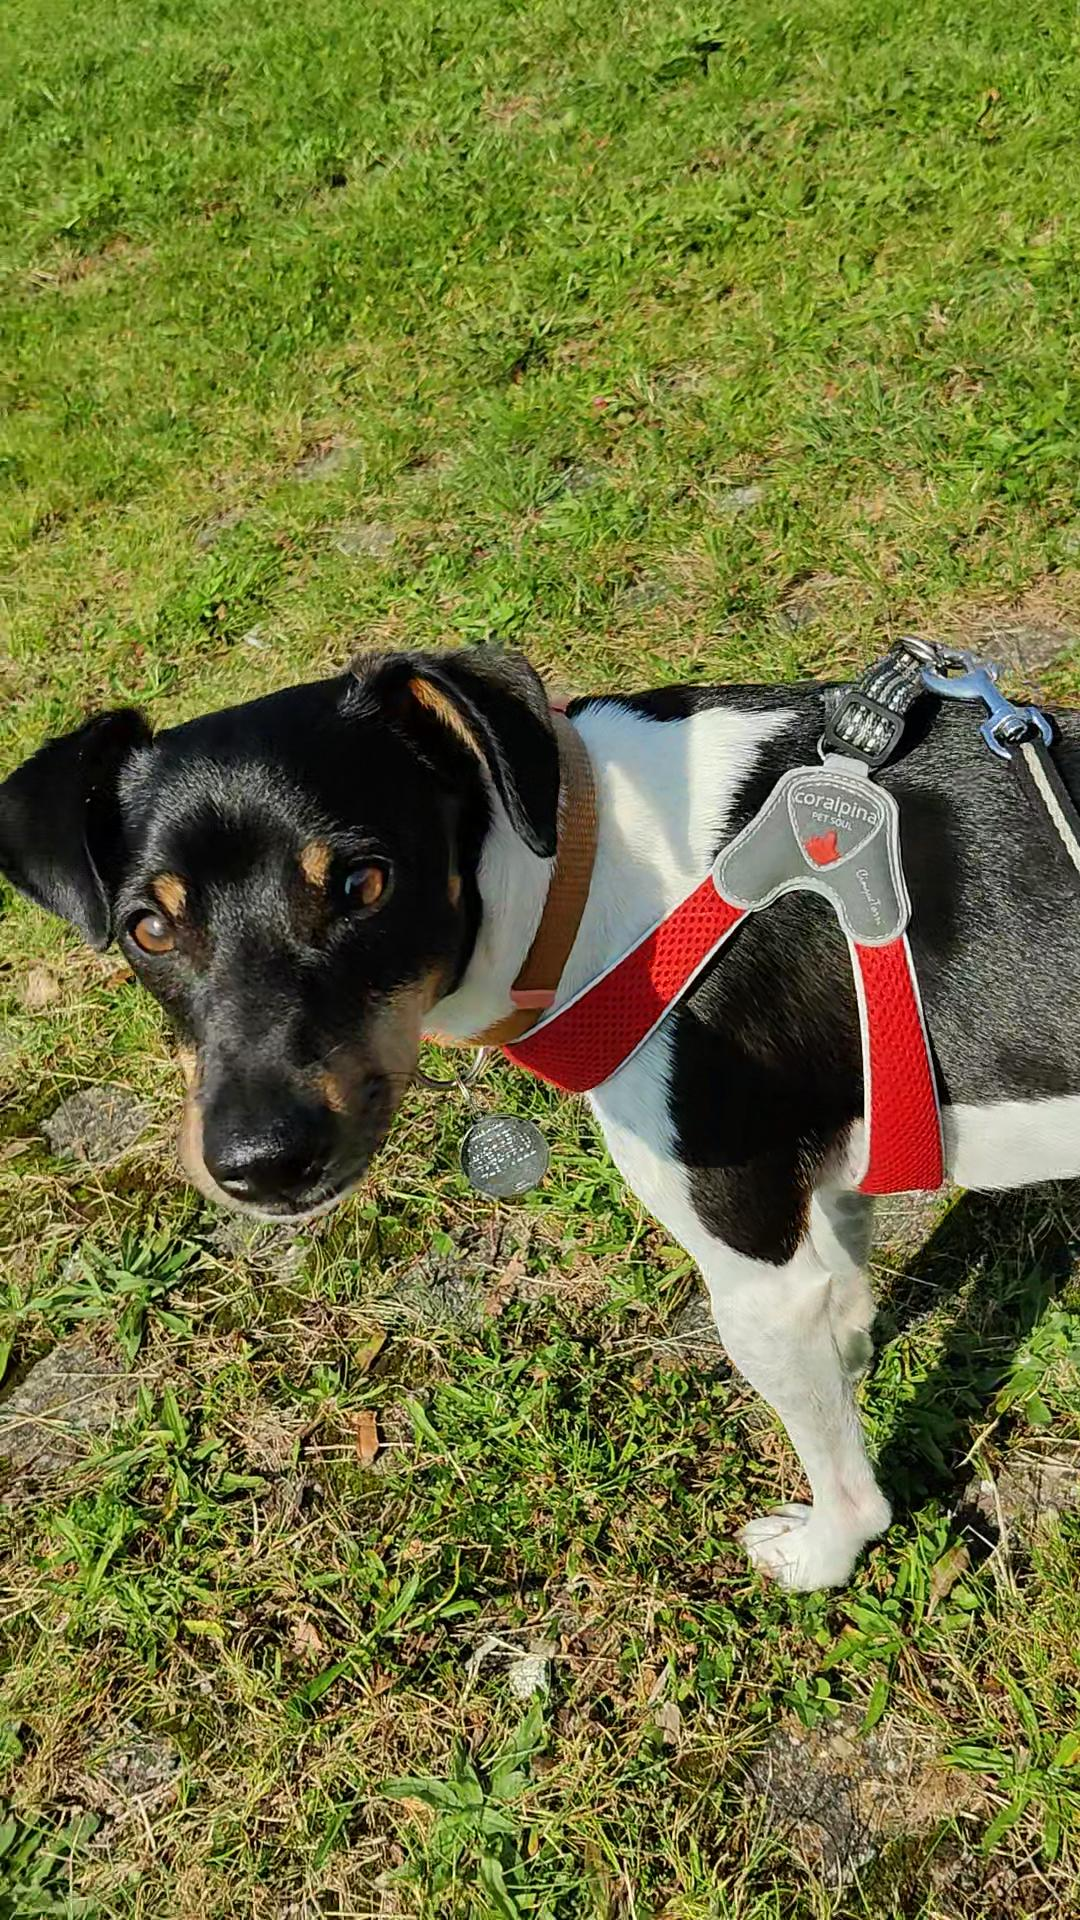Dog: (0, 632, 1079, 1593)
